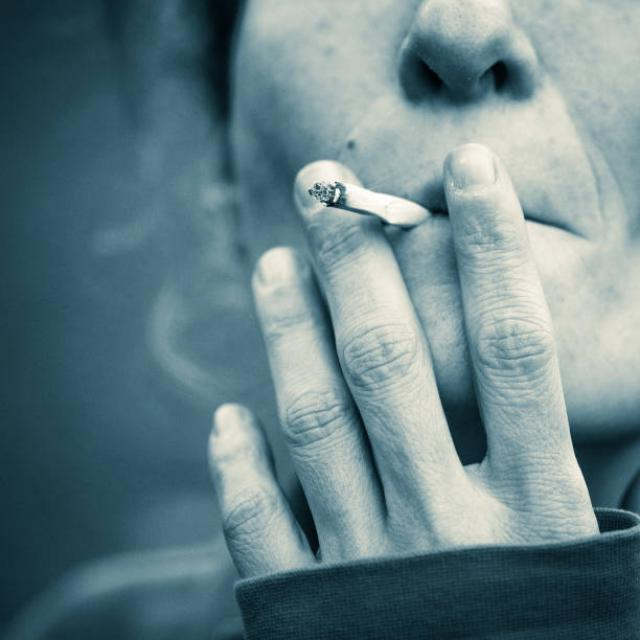rokok: (308, 172, 444, 236)
